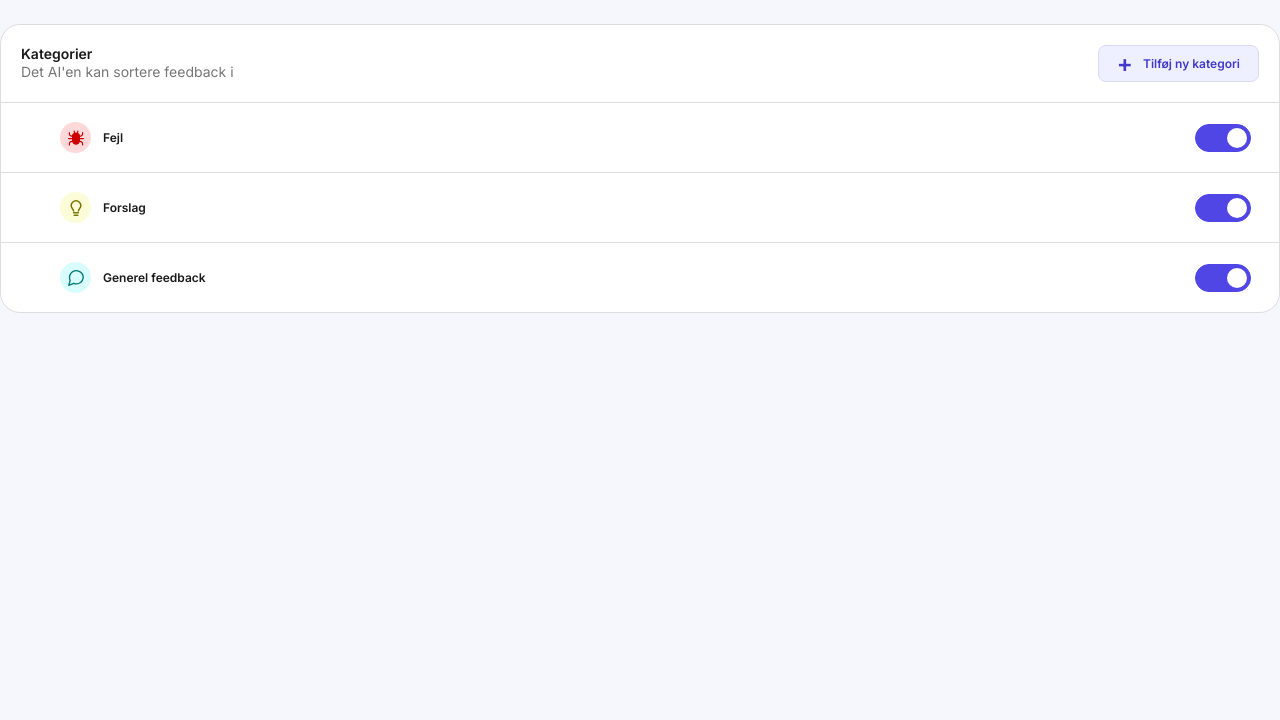
CategorySettings – adding (US1) › opens the dialog from the button (FR-003)
Click the button "+ Tilføj ny kategori".
click(1178, 64)  # box [1098, 45, 1259, 82]
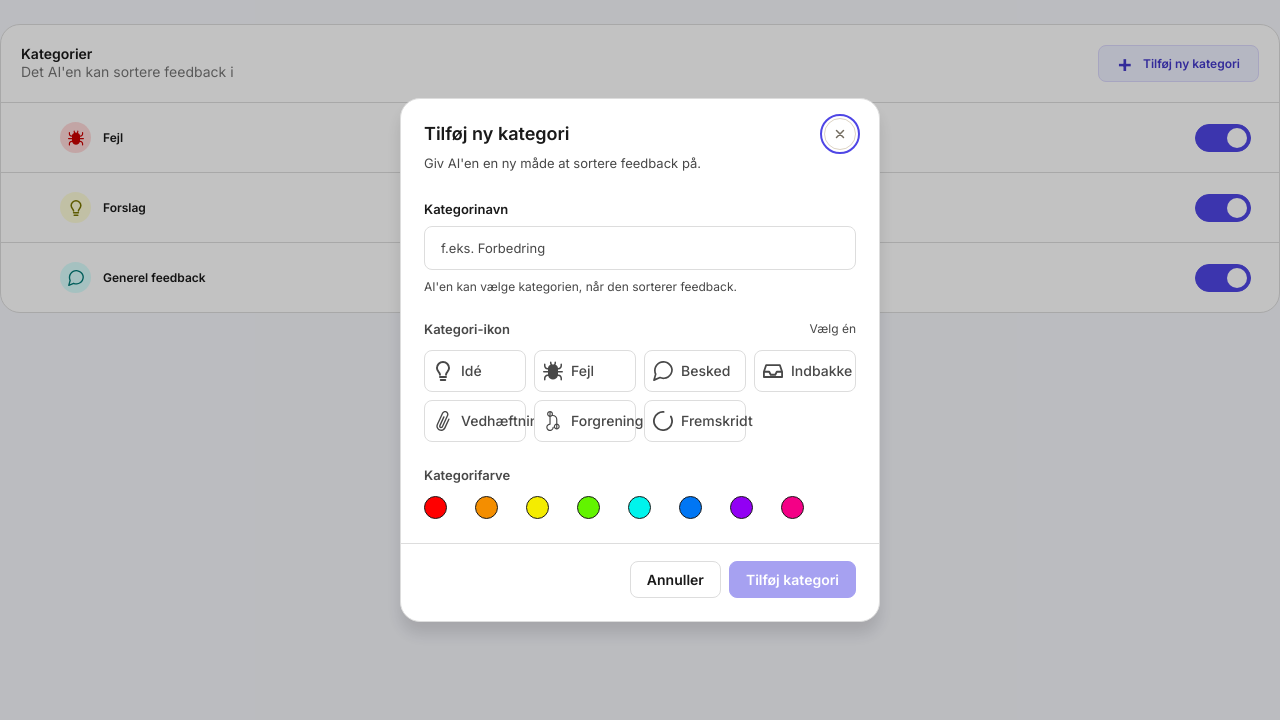
Check: the dialog "Tilføj ny kategori" is shown, box [400, 98, 880, 622]
